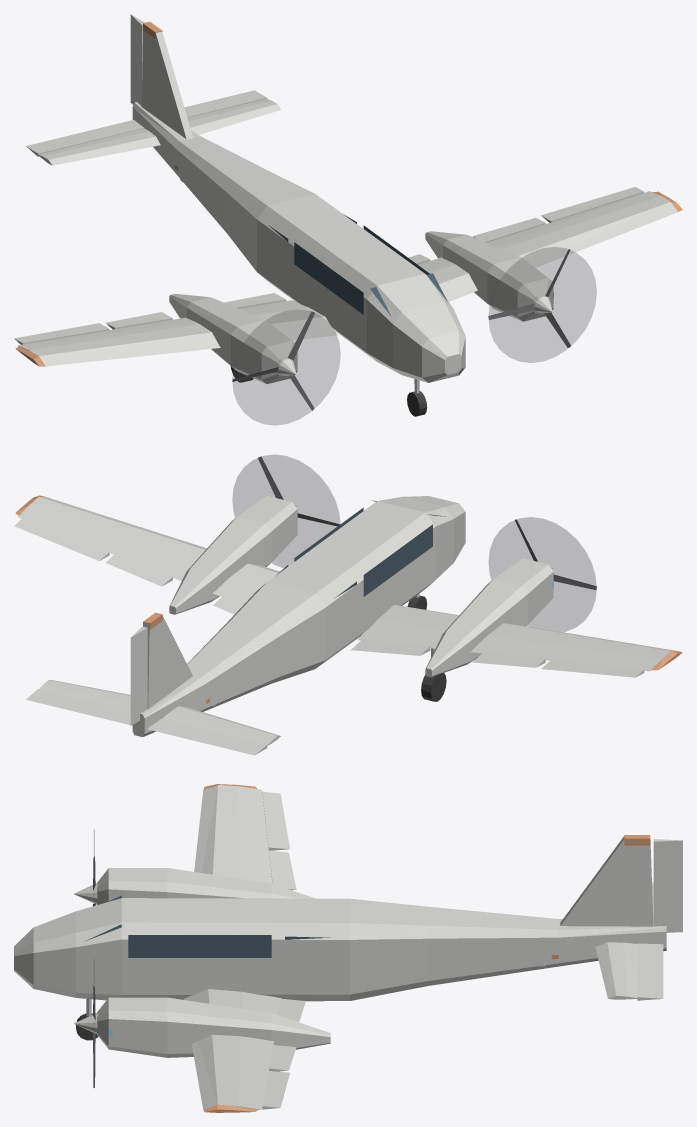
File: chaja-t300.glb
3 renders of one model, top to bottom at view 1: azimuth 30°, elevation 25°; view 2: azimuth 150°, elevation 25°; view 3: azimuth 270°, elevation 25°, orthographic. The views are drawn at different scales.
Parts seen in each view (by area): view 1: body, propdisc, propdisc2, elevator, rudder, propeller2, aileron_l, propeller, aileron_r, flap_l2; view 2: body, propdisc2, propdisc, elevator, rudder, aileron_l, aileron_r, flap_r, flap_l2, flap_r2, gear_r; view 3: body, rudder, elevator, aileron_r, flap_r2, aileron_l, flap_l2, propeller.
Part boxes in pixels (bbox=[...]): body: bbox=[15, 21, 682, 383]; propdisc: bbox=[488, 247, 596, 362]; propdisc2: bbox=[232, 309, 340, 425]; elevator: bbox=[26, 90, 267, 156]; rudder: bbox=[130, 14, 144, 105]; propeller2: bbox=[232, 311, 314, 410]; aileron_l: bbox=[541, 187, 644, 222]; propeller: bbox=[488, 249, 570, 347]; aileron_r: bbox=[14, 323, 109, 344]; flap_l2: bbox=[472, 218, 545, 242]; body: bbox=[15, 495, 682, 746]; propdisc2: bbox=[488, 517, 596, 631]; propdisc: bbox=[232, 454, 340, 567]; elevator: bbox=[26, 689, 267, 755]; rudder: bbox=[130, 626, 147, 725]; aileron_l: bbox=[14, 518, 109, 561]; aileron_r: bbox=[541, 659, 644, 677]; flap_r: bbox=[351, 639, 430, 655]; flap_l2: bbox=[105, 554, 172, 586]; flap_r2: bbox=[472, 652, 545, 667]; gear_r: bbox=[421, 648, 446, 701]; body: bbox=[14, 784, 666, 1112]; rudder: bbox=[653, 839, 682, 932]; elevator: bbox=[637, 882, 663, 1000]; aileron_r: bbox=[262, 791, 289, 850]; flap_r2: bbox=[269, 850, 296, 890]; aileron_l: bbox=[262, 1071, 289, 1109]; flap_l2: bbox=[269, 1045, 296, 1071]; propeller: bbox=[74, 985, 97, 1087].
Size of the model in its own units: 11.8 by 3.4 by 10.25.
